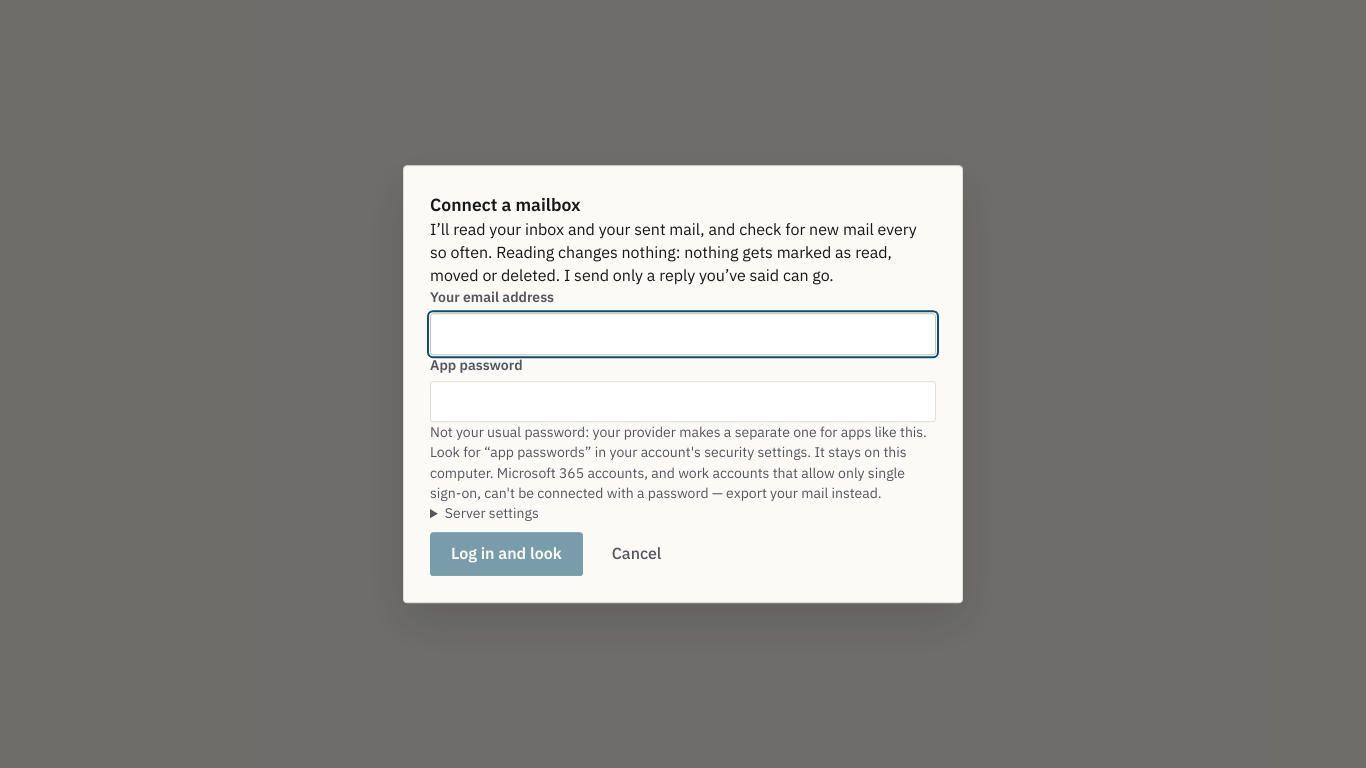
a Gmail or Google Workspace mailbox can sign in with Google › asks for an app password, as before, when this copy can't sign in with Google
In the field labelled "Your email address": {"x": 683, "y": 334} [430, 314, 936, 355], type "c@gmail.com"
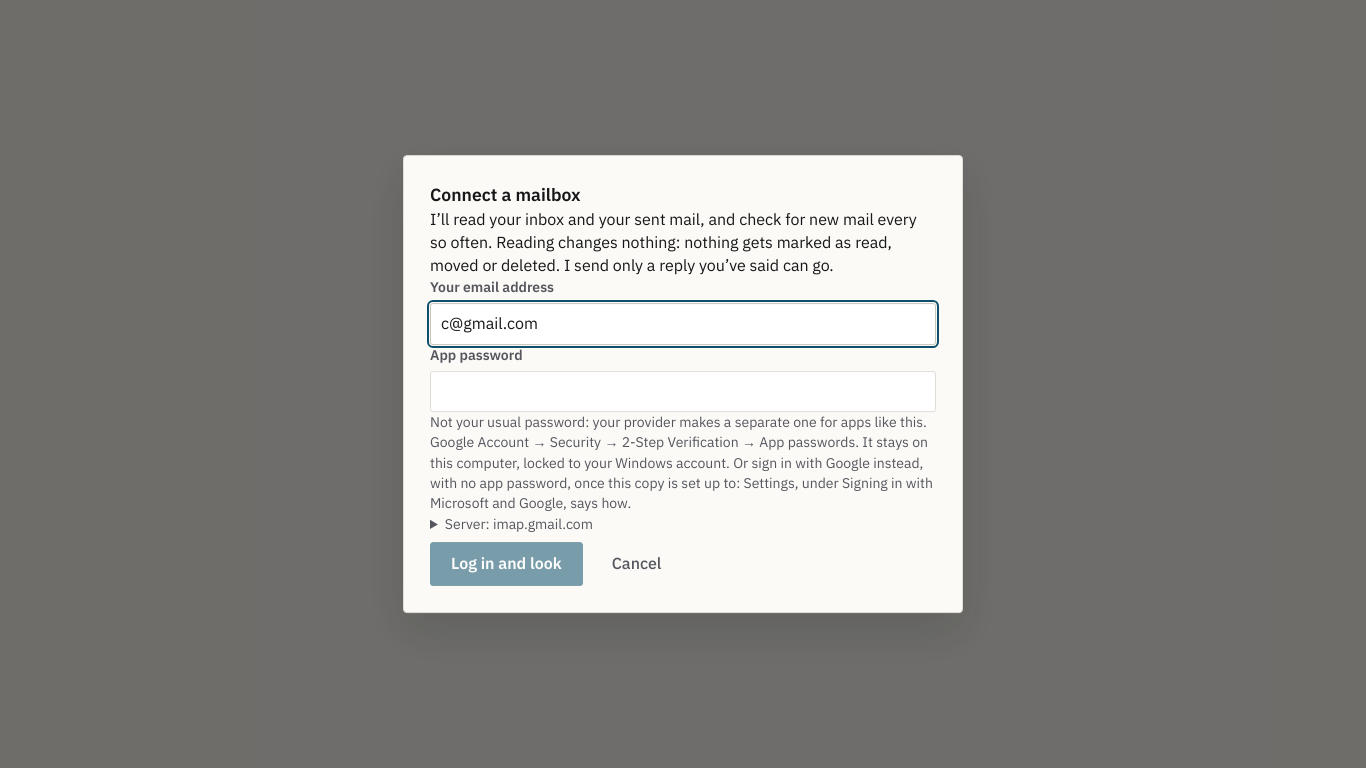
Expected: the password field labelled "App password" is shown, [430, 371, 936, 412]
Expected: the text "Or sign in with Google instead, with no app password" shows "Settings, under Signing in with Microsoft and Google, says how.", [430, 454, 933, 512]
